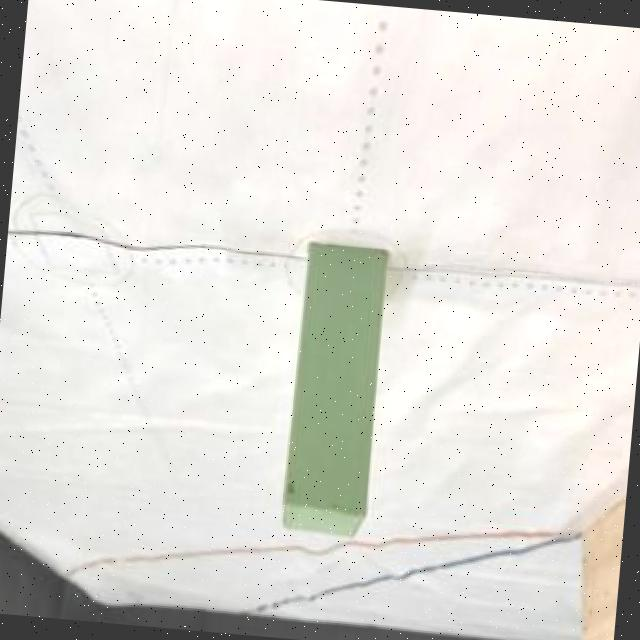greenbox: (276, 242, 389, 535)
